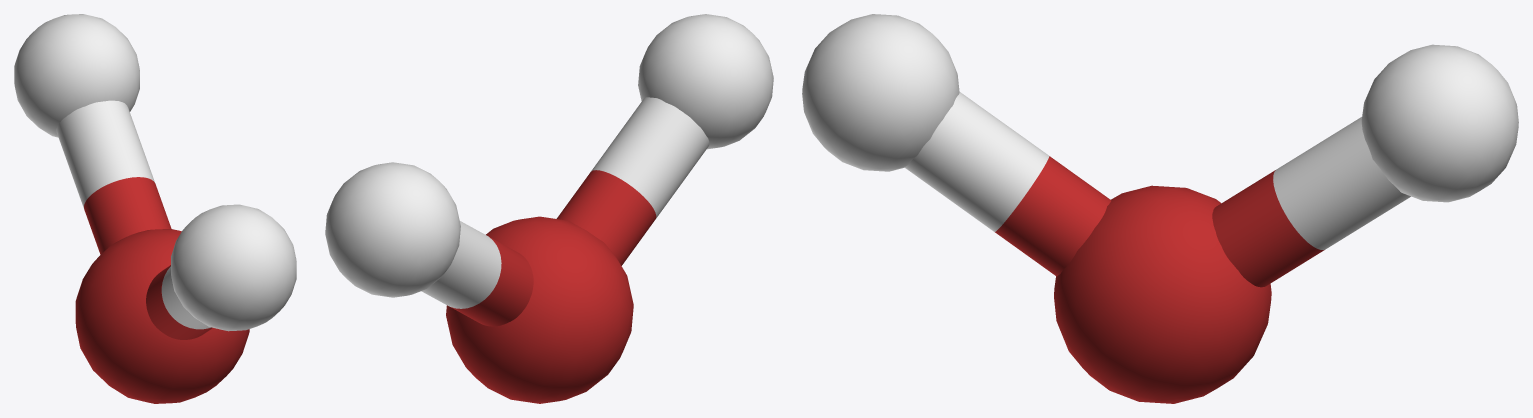
3 views of the same model, side by side, from view 1: azimuth 30°, elevation 25°; view 2: azimuth 150°, elevation 25°; view 3: azimuth 270°, elevation 25° (orthographic). The views are drawn at different scales.
Parts seen in each view (by area): view 1: Water; view 2: Water; view 3: Water.
Part boxes in pixels (left/top/right/bottom): Water: left=14, top=14, right=296, bottom=403; Water: left=325, top=14, right=773, bottom=403; Water: left=802, top=14, right=1518, bottom=403.
Bounding box in the file's own units: 1.02 × 1.57 × 2.86.
